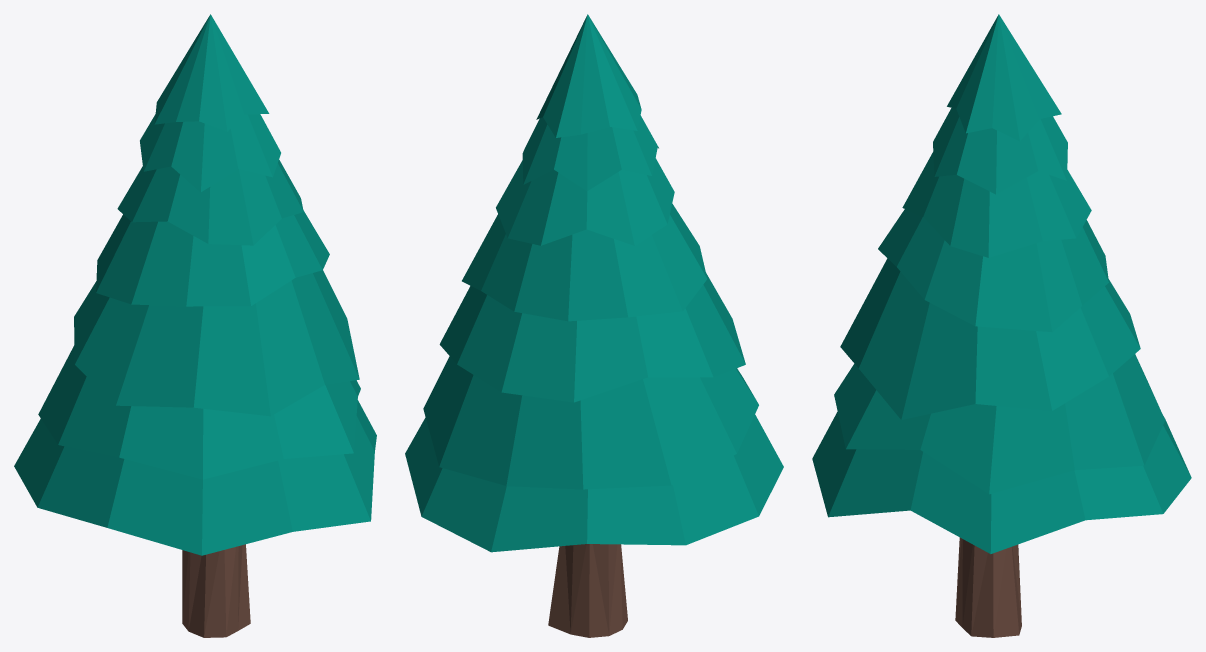
File: fatplant.fbx
3 views of the same model, side by side, from view 1: azimuth 30°, elevation 25°; view 2: azimuth 150°, elevation 25°; view 3: azimuth 270°, elevation 25° (orthographic).
Visible parts, largest first — view 1: node_id6 (×2); view 2: node_id6 (×2); view 3: node_id6 (×2).
Part boxes in pixels (x1,y1,x2,y2): node_id6 (×2): (14,14,376,637); node_id6 (×2): (405,14,783,637); node_id6 (×2): (812,14,1191,637).
Bounding box in the file's own units: 0.2949 × 0.512 × 0.289.
